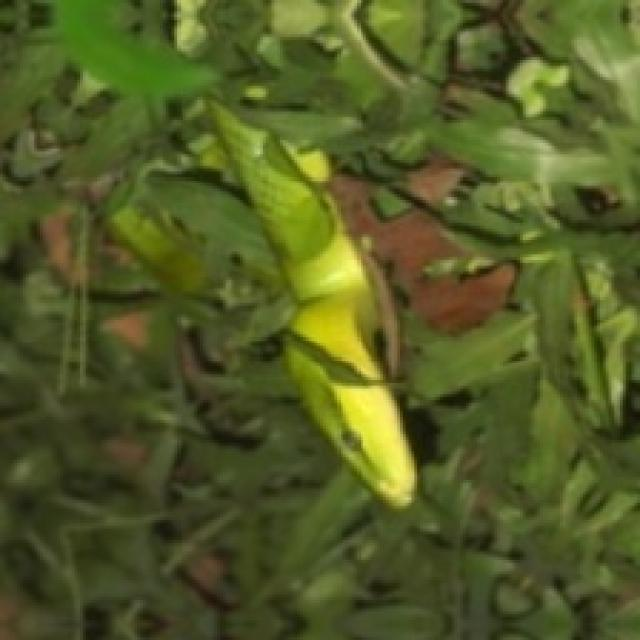red-tailed green ratsnake: (209, 103, 414, 506)
